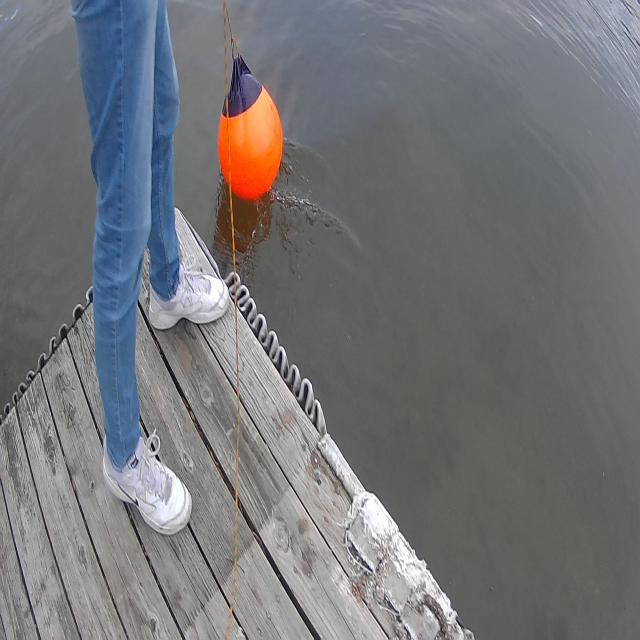Buoy: (209, 45, 294, 212)
